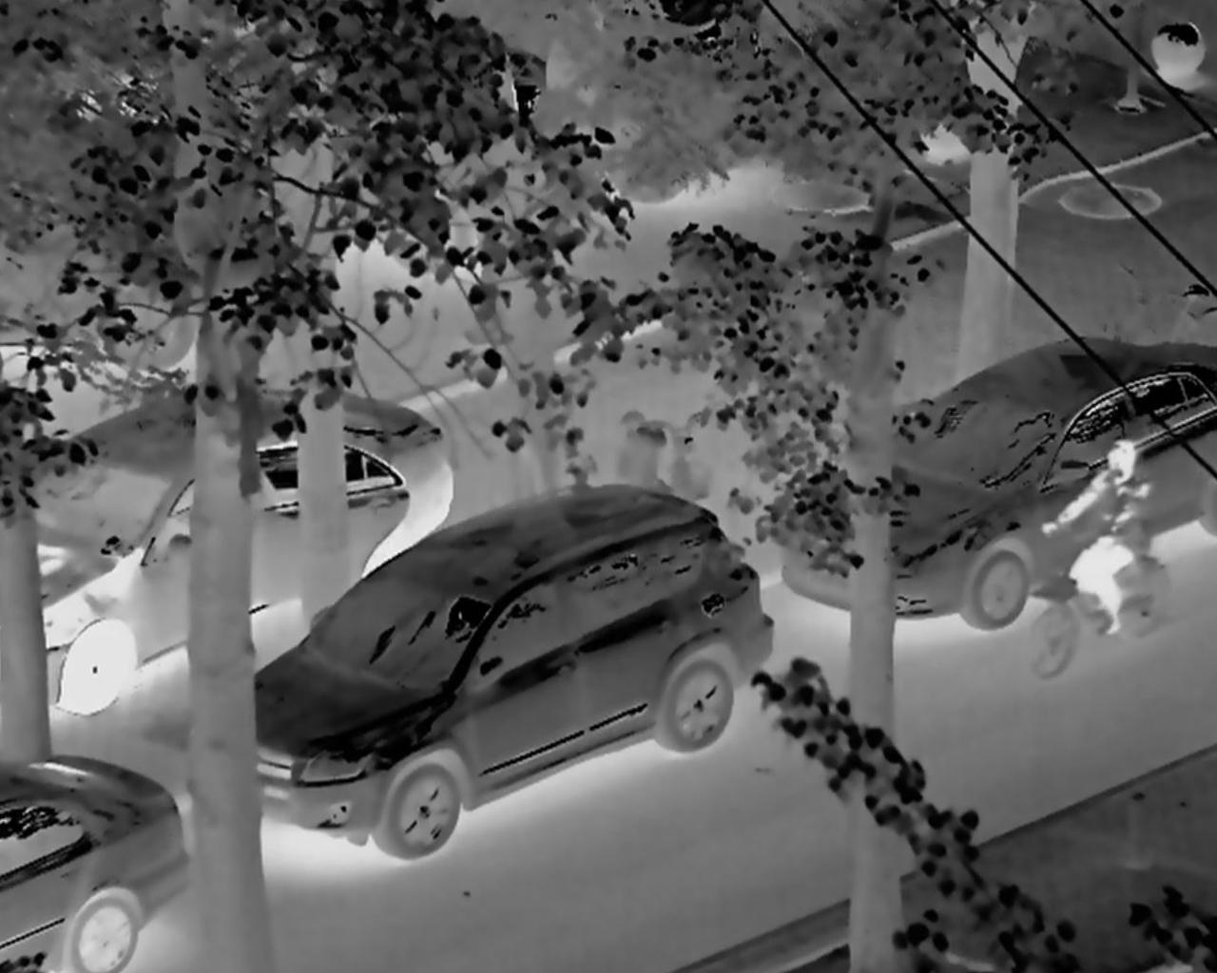person: (1028, 432, 1179, 666)
